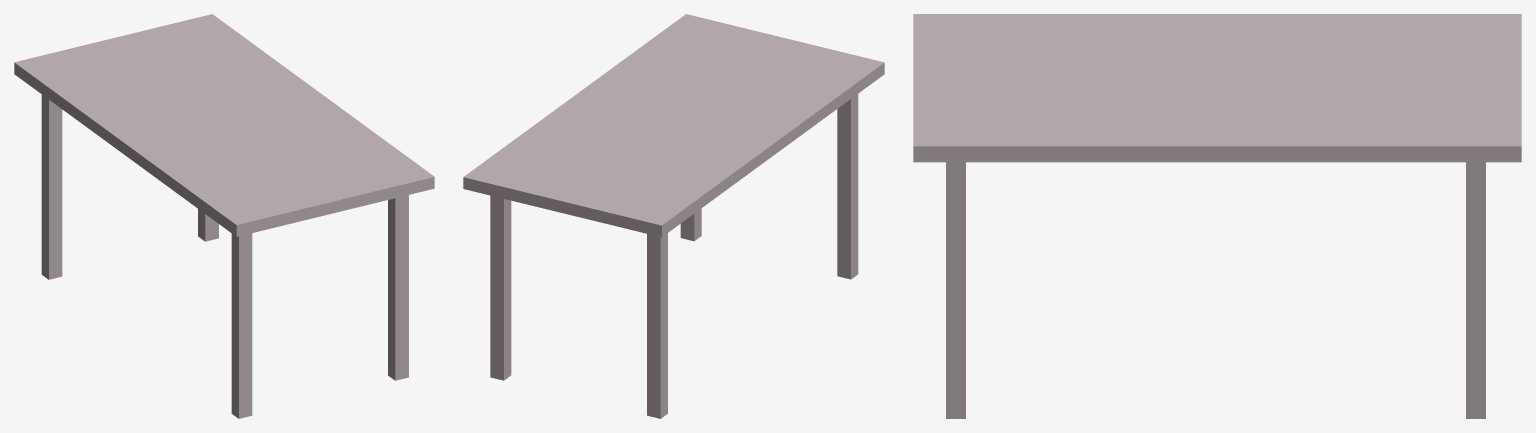
Rendered from table2.obj.
The picture shows the model from 3 angles, left to right: view 1: azimuth 30°, elevation 25°; view 2: azimuth 150°, elevation 25°; view 3: azimuth 270°, elevation 25°; orthographic projection. The views are drawn at different scales.
Visible parts, largest first — view 1: Cube_Cube.001, Cube.001_Cube.002, Cube.004_Cube.006, Cube.002_Cube.003, Cube.003_Cube.004; view 2: Cube_Cube.001, Cube.003_Cube.004, Cube.001_Cube.002, Cube.004_Cube.006, Cube.002_Cube.003; view 3: Cube_Cube.001, Cube.003_Cube.004, Cube.002_Cube.003.
Part boxes in pixels (x1,y1,x2,y2): Cube_Cube.001: (14, 14, 434, 236); Cube.001_Cube.002: (231, 233, 252, 418); Cube.004_Cube.006: (41, 94, 62, 279); Cube.002_Cube.003: (388, 195, 408, 380); Cube.003_Cube.004: (198, 209, 218, 241); Cube_Cube.001: (463, 14, 884, 237); Cube.003_Cube.004: (490, 195, 511, 380); Cube.001_Cube.002: (837, 94, 858, 279); Cube.004_Cube.006: (647, 233, 667, 418); Cube.002_Cube.003: (680, 208, 701, 241); Cube_Cube.001: (913, 14, 1521, 162); Cube.003_Cube.004: (1466, 162, 1485, 418); Cube.002_Cube.003: (946, 162, 965, 418).
Bounding box in the file's own units: 3.53 × 3.51 × 6.86.
1 material, 1 textured.
